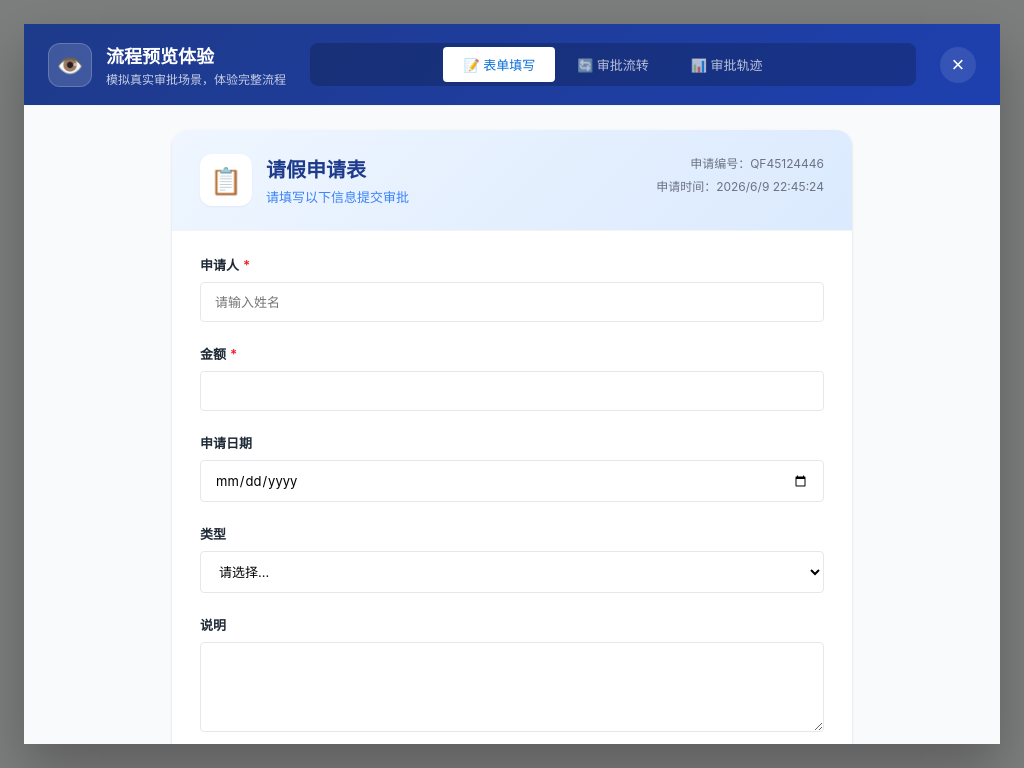
Test: PreviewPanel › 模式切换：点击"审批流转"渲染流程节点
What coordinates should you click on to do the following:
click the tab "🔄 审批流转"
I would click on:
 (613, 64)
Its box is [557,47,669,82].
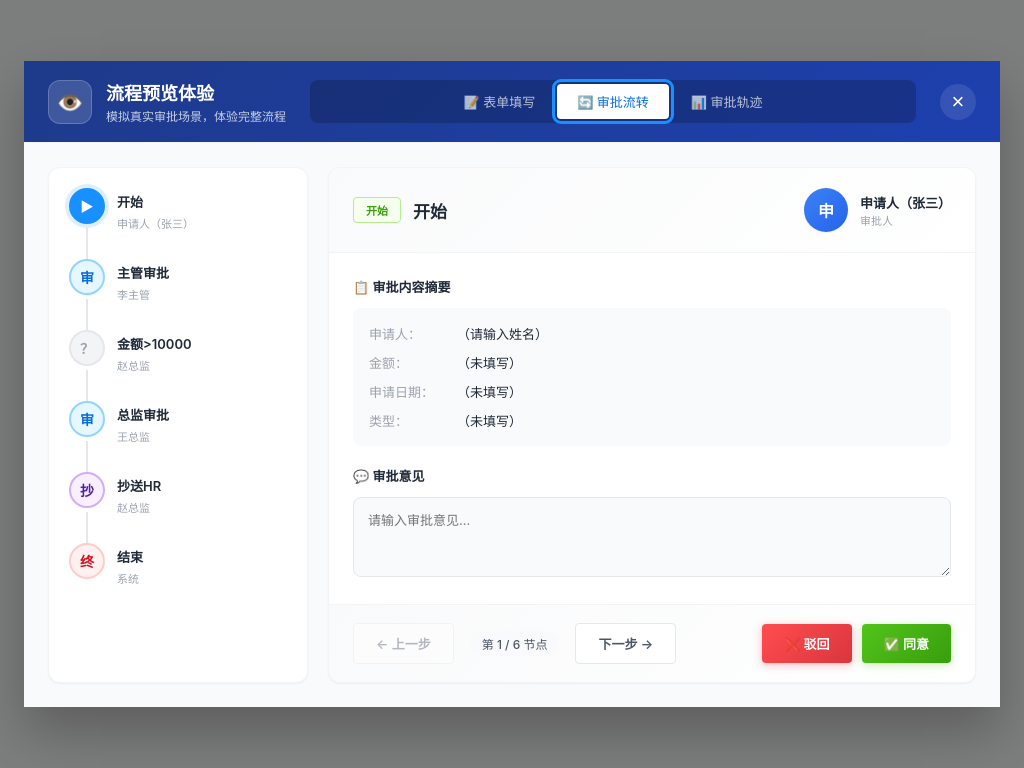
Check: the text "主管审批" is shown, box [117,265,169,281]
Check: the text "总监审批" is shown, box [117,407,169,423]
Check: the text "抄送HR" is shown, box [117,478,161,494]
